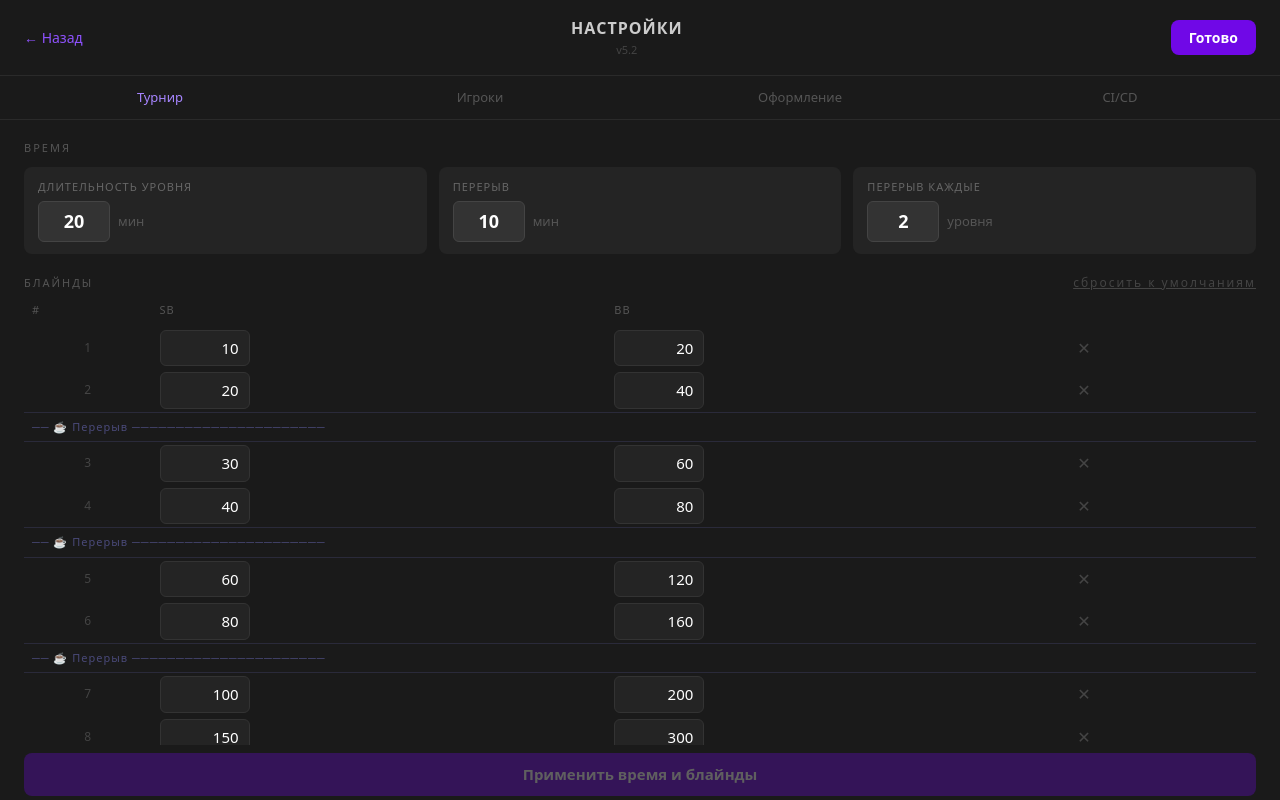
Test case: SettingsScreen — Changelog › clicking version string opens changelog modal
Click the text "v5.2" at (627, 50), box [616,42,637,57]
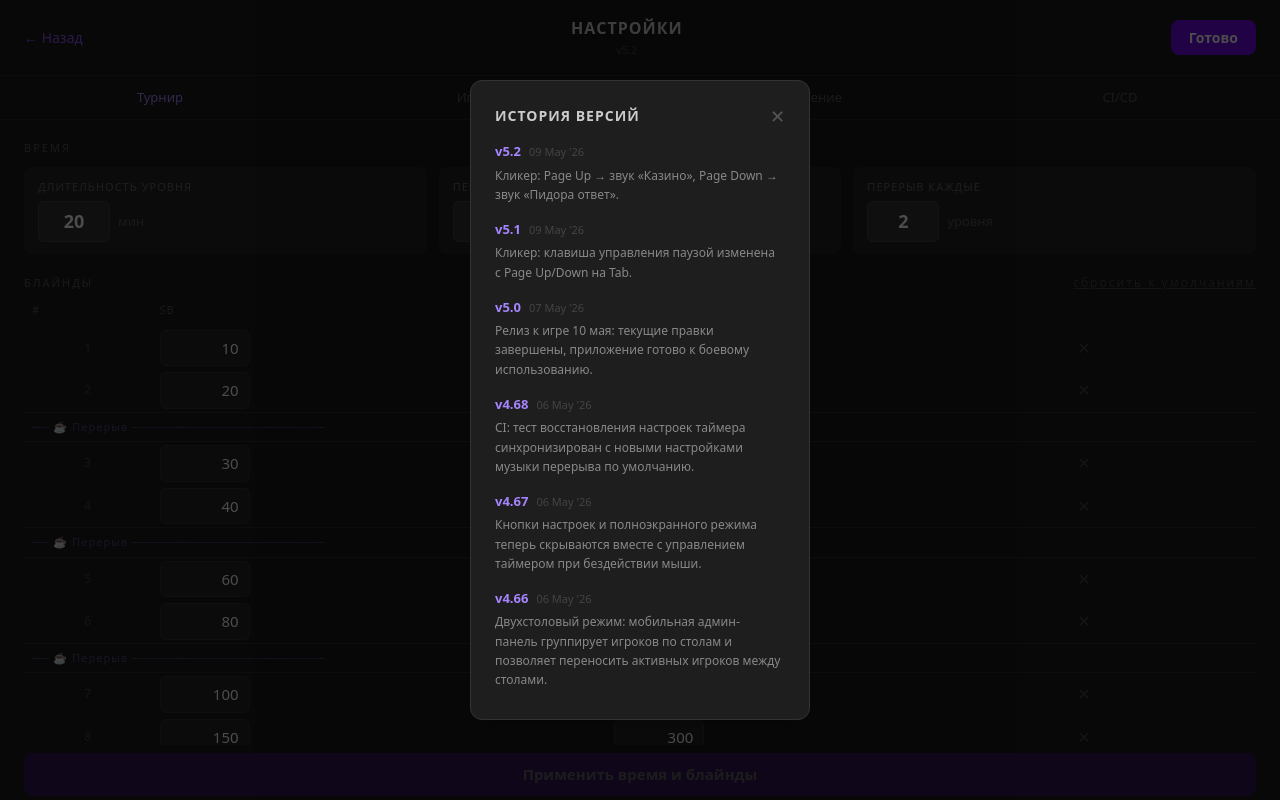
Expected: the heading "История версий" is shown, [495,105,640,126]
